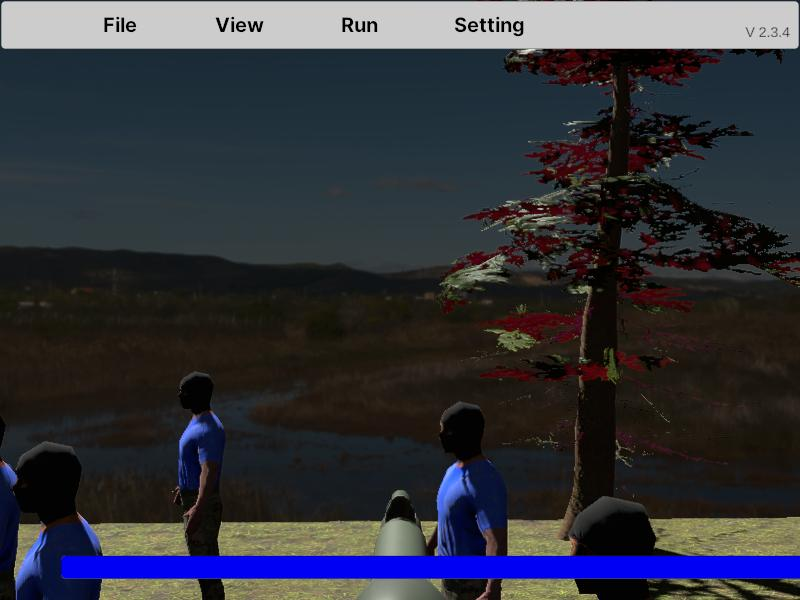Human: (426, 399, 510, 600), (7, 439, 108, 600), (172, 369, 227, 600), (0, 410, 26, 600)
